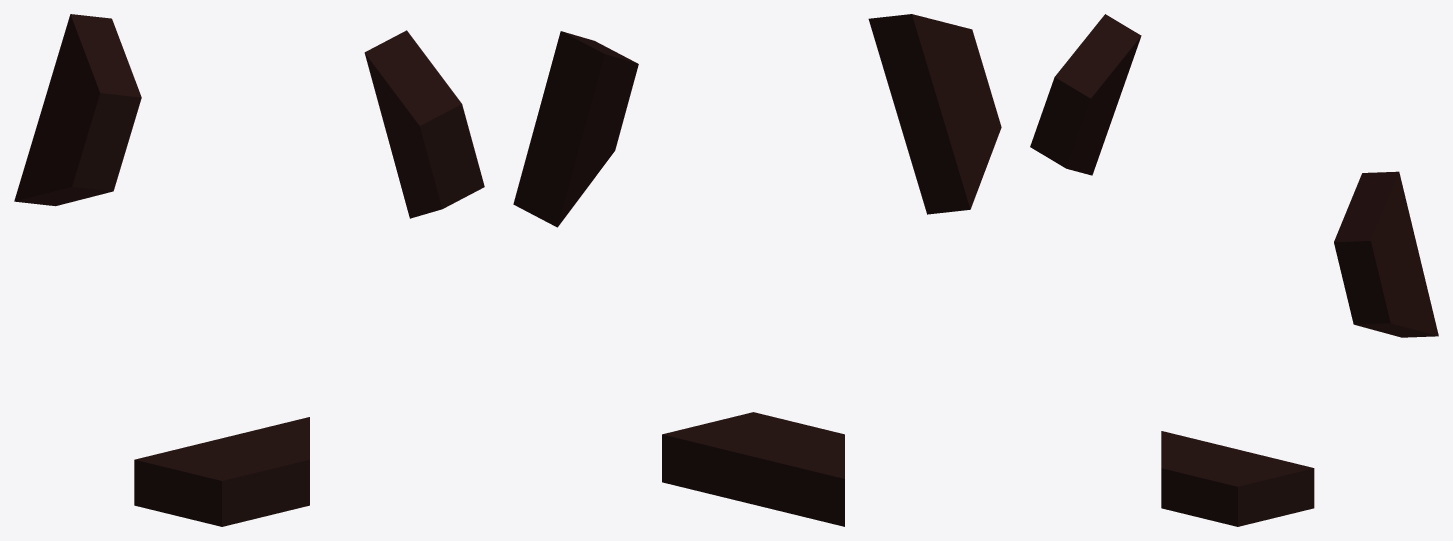
The model's file is carne.obj.
3 renders of one model, left to right at view 1: azimuth 30°, elevation 25°; view 2: azimuth 150°, elevation 25°; view 3: azimuth 330°, elevation 25°, orthographic. The views are drawn at different scales.
Parts seen in each view (by area): view 1: bowlSoup.002; view 2: bowlSoup.002; view 3: bowlSoup.002.
Boxes of the visible parts, x1,y1,x2,y2 form: bowlSoup.002: (14, 14, 484, 526); bowlSoup.002: (513, 14, 1001, 526); bowlSoup.002: (1030, 14, 1438, 526).
Size of the model in its own units: 0.0999 by 0.1105 by 0.0173.
